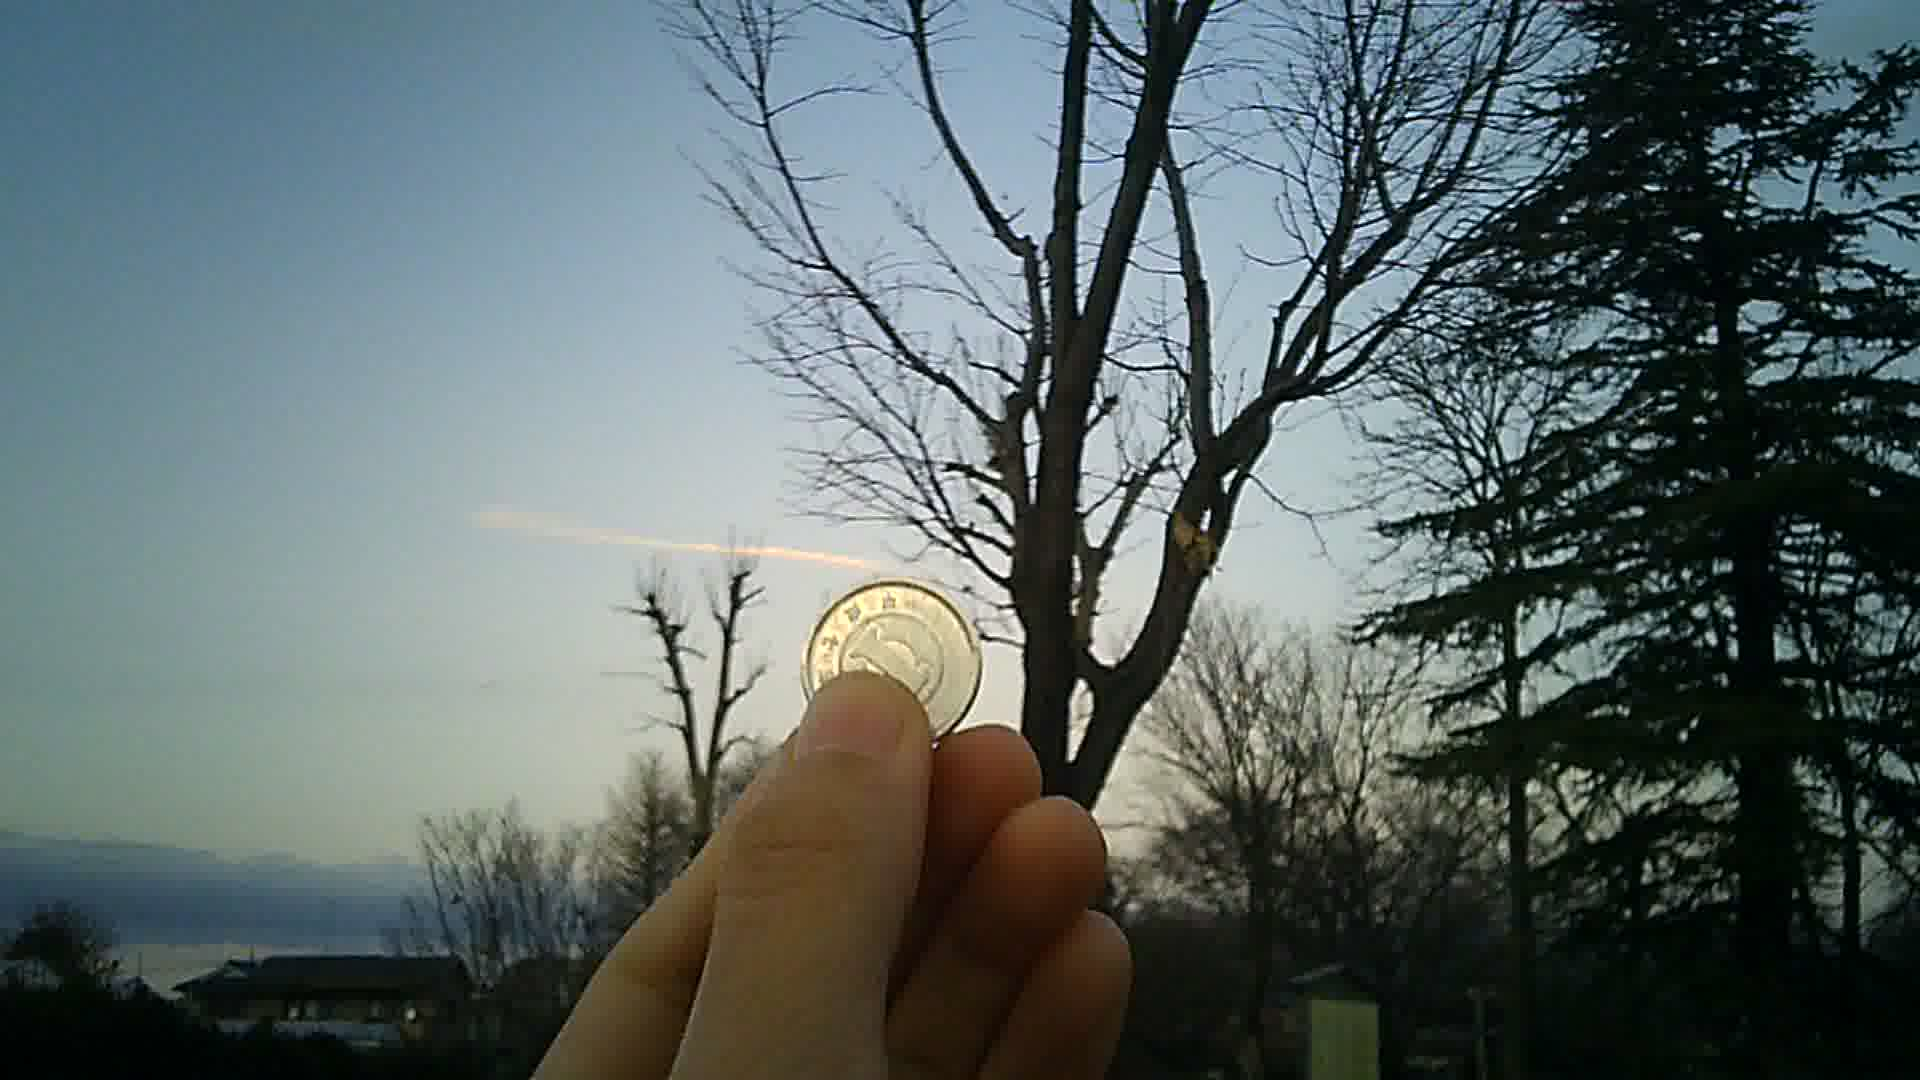1 Yen: (796, 582, 982, 742)
